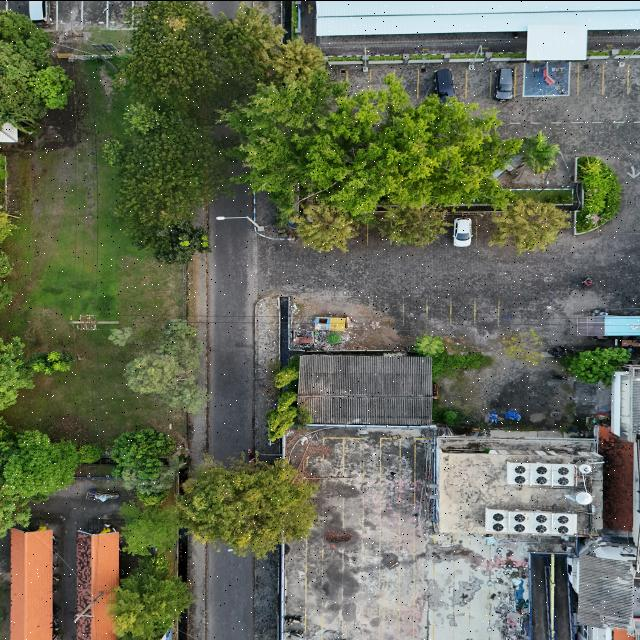Tree: (175, 454, 316, 556), (486, 198, 573, 250), (285, 204, 362, 254), (102, 427, 174, 480), (568, 340, 631, 384), (122, 352, 182, 394), (23, 339, 78, 381), (267, 358, 311, 389), (411, 331, 448, 355)
